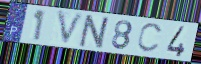1: (32, 8, 47, 43)
4: (166, 26, 188, 58)
8: (111, 19, 134, 51)
C: (135, 22, 165, 54)
N: (77, 13, 113, 51)
V: (56, 9, 87, 48)
